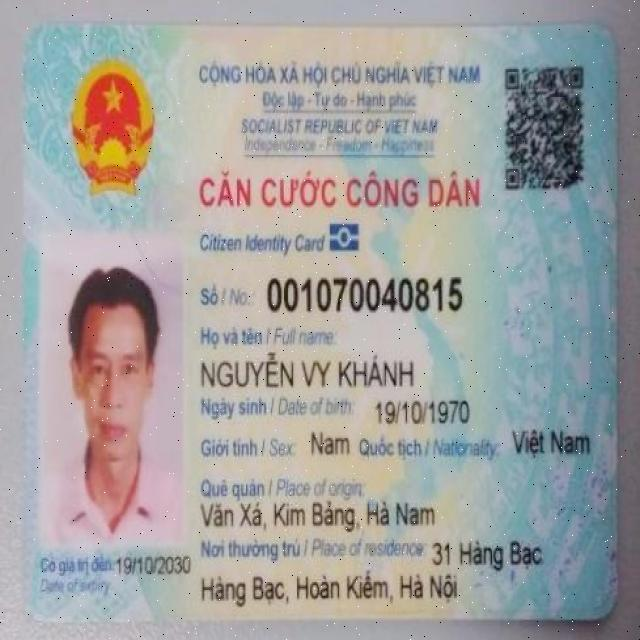current_place: (198, 566, 463, 607), (424, 535, 545, 571)
dob: (373, 396, 476, 429)
expire_date: (114, 548, 192, 582)
gender: (305, 429, 355, 461)
id: (262, 274, 465, 313)
name: (197, 348, 417, 393)
nationality: (507, 428, 597, 459)
origin_place: (200, 500, 439, 534)
